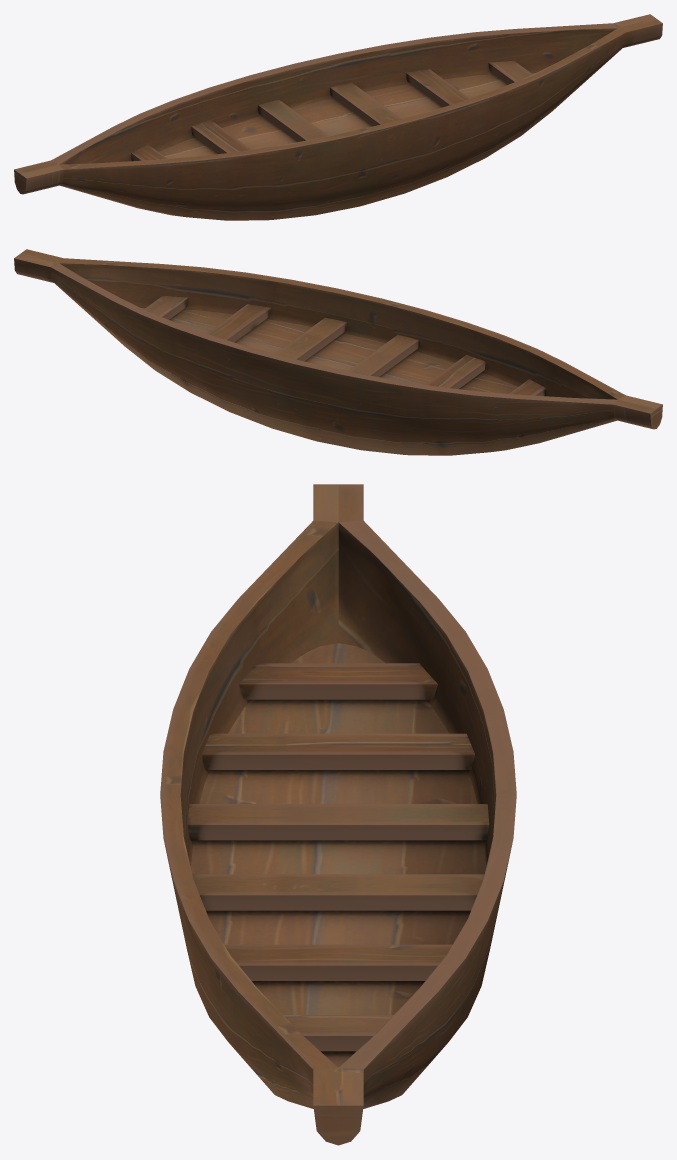
The model's file is Boat.fbx.
3 views of the same model, one above another, from view 1: azimuth 30°, elevation 25°; view 2: azimuth 150°, elevation 25°; view 3: azimuth 270°, elevation 25° (orthographic). The views are drawn at different scales.
Visible parts, largest first — view 1: Boat; view 2: Boat; view 3: Boat.
Part boxes in pixels (box(x1,y1,x2,y2)): Boat: box(14, 14, 662, 220); Boat: box(14, 249, 662, 455); Boat: box(160, 484, 516, 1145).
Bounding box in the file's own units: 906 × 146 × 220.
1 material, 1 textured.
